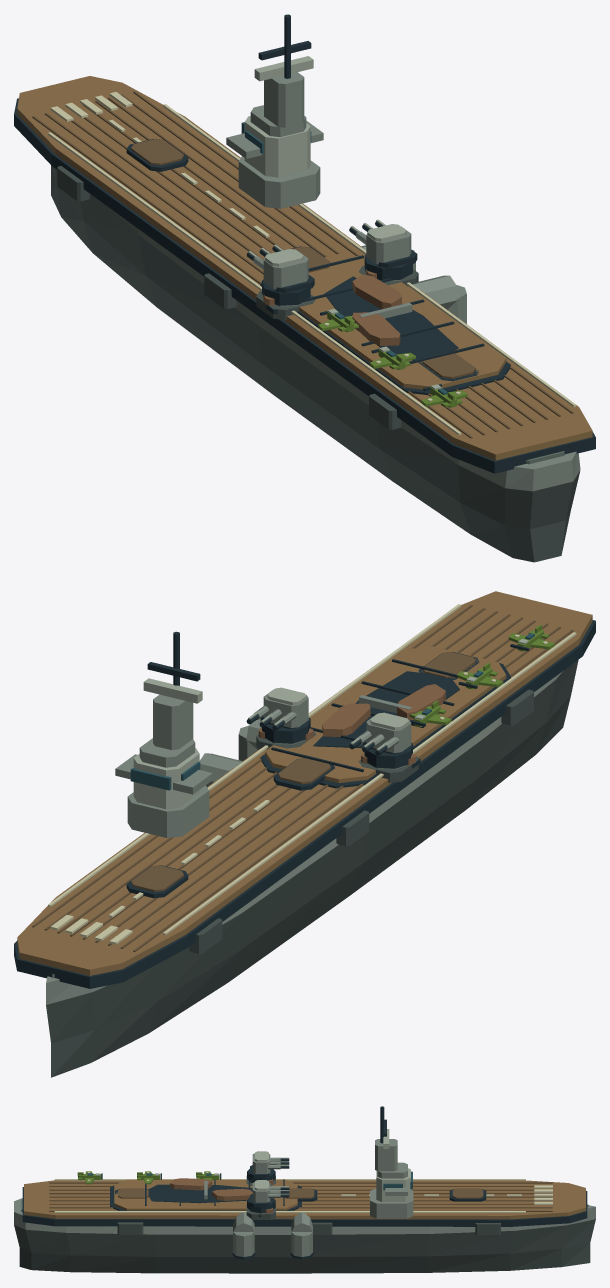
File: historic-soryu.glb
3 renders of one model, top to bottom at view 1: azimuth 30°, elevation 25°; view 2: azimuth 150°, elevation 25°; view 3: azimuth 270°, elevation 25°, orthographic. The views are drawn at different scales.
Visible parts, largest first — view 1: historic-soryu-historic-soryu-geometry, historic-soryu-part_bridge.029-geometry, historic-soryu-part_flight-deck.009-geometry, historic-soryu-ruin_flight-deck.008-geometry, historic-soryu-turret_aa_aa-port.031-geometry, historic-soryu-turret_aa_aa-starboard.029-geometry, historic-soryu-aircraft_lift_0.009-geometry, historic-soryu-historic_funnel_1.016-geometry, historic-soryu-aircraft_lift_2.008-geometry; view 2: historic-soryu-historic-soryu-geometry, historic-soryu-part_bridge.029-geometry, historic-soryu-part_flight-deck.009-geometry, historic-soryu-ruin_flight-deck.008-geometry, historic-soryu-turret_aa_aa-starboard.029-geometry, historic-soryu-turret_aa_aa-port.031-geometry, historic-soryu-aircraft_lift_0.009-geometry, historic-soryu-aircraft_lift_1.009-geometry, historic-soryu-aircraft_lift_2.008-geometry, historic-soryu-historic_funnel_0.030-geometry, historic-soryu-parked_aircraft_0.009-geometry, historic-soryu-parked_aircraft_1.009-geometry (+1 smaller); view 3: historic-soryu-historic-soryu-geometry, historic-soryu-part_bridge.029-geometry, historic-soryu-part_flight-deck.009-geometry, historic-soryu-ruin_flight-deck.008-geometry, historic-soryu-historic_funnel_0.030-geometry, historic-soryu-turret_aa_aa-starboard.029-geometry, historic-soryu-historic_funnel_1.016-geometry, historic-soryu-turret_aa_aa-port.031-geometry, historic-soryu-aircraft_lift_0.009-geometry, historic-soryu-aircraft_lift_1.009-geometry, historic-soryu-aircraft_lift_2.008-geometry.
Part boxes in pixels (x1=…): historic-soryu-historic-soryu-geometry: x1=14, y1=76, x2=595, y2=562; historic-soryu-part_bridge.029-geometry: x1=226, y1=14, x2=323, y2=208; historic-soryu-part_flight-deck.009-geometry: x1=260, y1=254, x2=510, y2=395; historic-soryu-ruin_flight-deck.008-geometry: x1=324, y1=274, x2=458, y2=360; historic-soryu-turret_aa_aa-port.031-geometry: x1=246, y1=244, x2=314, y2=305; historic-soryu-turret_aa_aa-starboard.029-geometry: x1=349, y1=219, x2=417, y2=280; historic-soryu-aircraft_lift_0.009-geometry: x1=126, y1=138, x2=188, y2=171; historic-soryu-historic_funnel_1.016-geometry: x1=412, y1=275, x2=466, y2=323; historic-soryu-aircraft_lift_2.008-geometry: x1=418, y1=353, x2=478, y2=381; historic-soryu-historic-soryu-geometry: x1=14, y1=591, x2=595, y2=1077; historic-soryu-part_bridge.029-geometry: x1=115, y1=631, x2=212, y2=837; historic-soryu-part_flight-deck.009-geometry: x1=260, y1=646, x2=510, y2=788; historic-soryu-ruin_flight-deck.008-geometry: x1=313, y1=671, x2=459, y2=748; historic-soryu-turret_aa_aa-starboard.029-geometry: x1=246, y1=687, x2=310, y2=743; historic-soryu-turret_aa_aa-port.031-geometry: x1=349, y1=712, x2=412, y2=768; historic-soryu-aircraft_lift_0.009-geometry: x1=126, y1=865, x2=188, y2=898; historic-soryu-aircraft_lift_1.009-geometry: x1=273, y1=758, x2=334, y2=790; historic-soryu-aircraft_lift_2.008-geometry: x1=418, y1=652, x2=479, y2=679; historic-soryu-historic_funnel_0.030-geometry: x1=199, y1=753, x2=242, y2=786; historic-soryu-parked_aircraft_0.009-geometry: x1=508, y1=625, x2=554, y2=651; historic-soryu-parked_aircraft_1.009-geometry: x1=457, y1=662, x2=503, y2=689; historic-soryu-historic-soryu-geometry: x1=14, y1=1179, x2=595, y2=1273; historic-soryu-part_bridge.029-geometry: x1=370, y1=1106, x2=413, y2=1218; historic-soryu-part_flight-deck.009-geometry: x1=110, y1=1179, x2=301, y2=1210; historic-soryu-ruin_flight-deck.008-geometry: x1=148, y1=1178, x2=252, y2=1203; historic-soryu-historic_funnel_0.030-geometry: x1=290, y1=1212, x2=313, y2=1259; historic-soryu-turret_aa_aa-starboard.029-geometry: x1=247, y1=1180, x2=289, y2=1213; historic-soryu-historic_funnel_1.016-geometry: x1=232, y1=1212, x2=255, y2=1259; historic-soryu-turret_aa_aa-port.031-geometry: x1=247, y1=1151, x2=289, y2=1182; historic-soryu-aircraft_lift_0.009-geometry: x1=449, y1=1188, x2=486, y2=1201; historic-soryu-aircraft_lift_1.009-geometry: x1=285, y1=1188, x2=317, y2=1201; historic-soryu-aircraft_lift_2.008-geometry: x1=115, y1=1188, x2=148, y2=1198.
Bounding box in the file's own units: 1.26 × 1.92 × 5.89.
